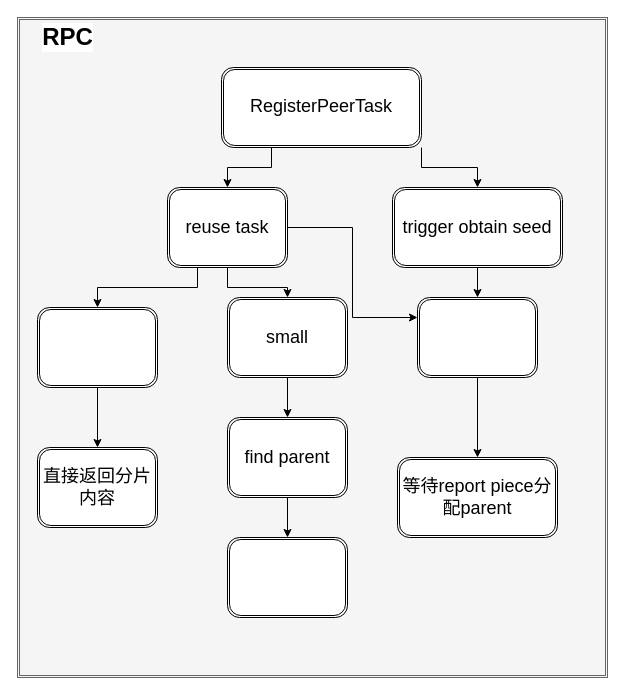
This 625x695 diagram has some shape labels left out. Here are the shapes that lost their labels. From the top down, the centre of each, then its label:
At point (97, 347): "Tiny".
At point (477, 337): "normal".
At point (287, 577): "返回single分片信息".
